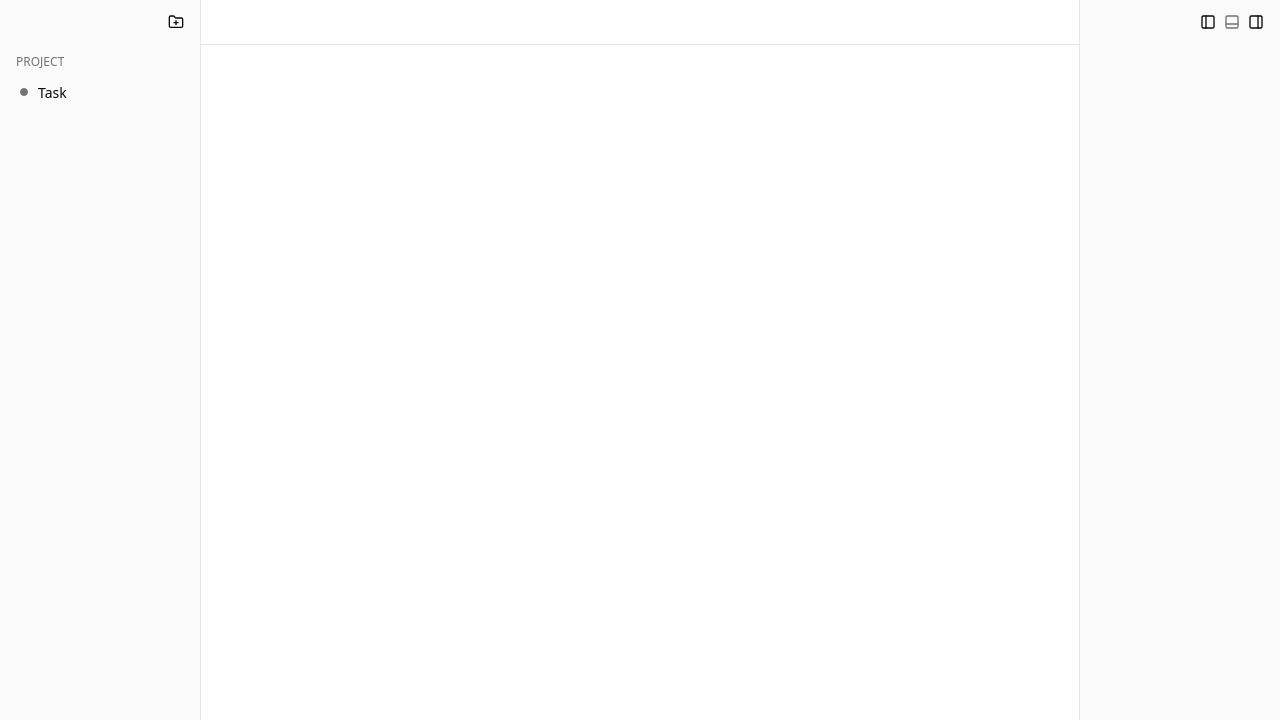
Transcript Markdown › completes Markdown split across streamed chunks
Later steps or results of the test are not shown.
Click the button with class "select": (100, 92) [8,76,192,108]
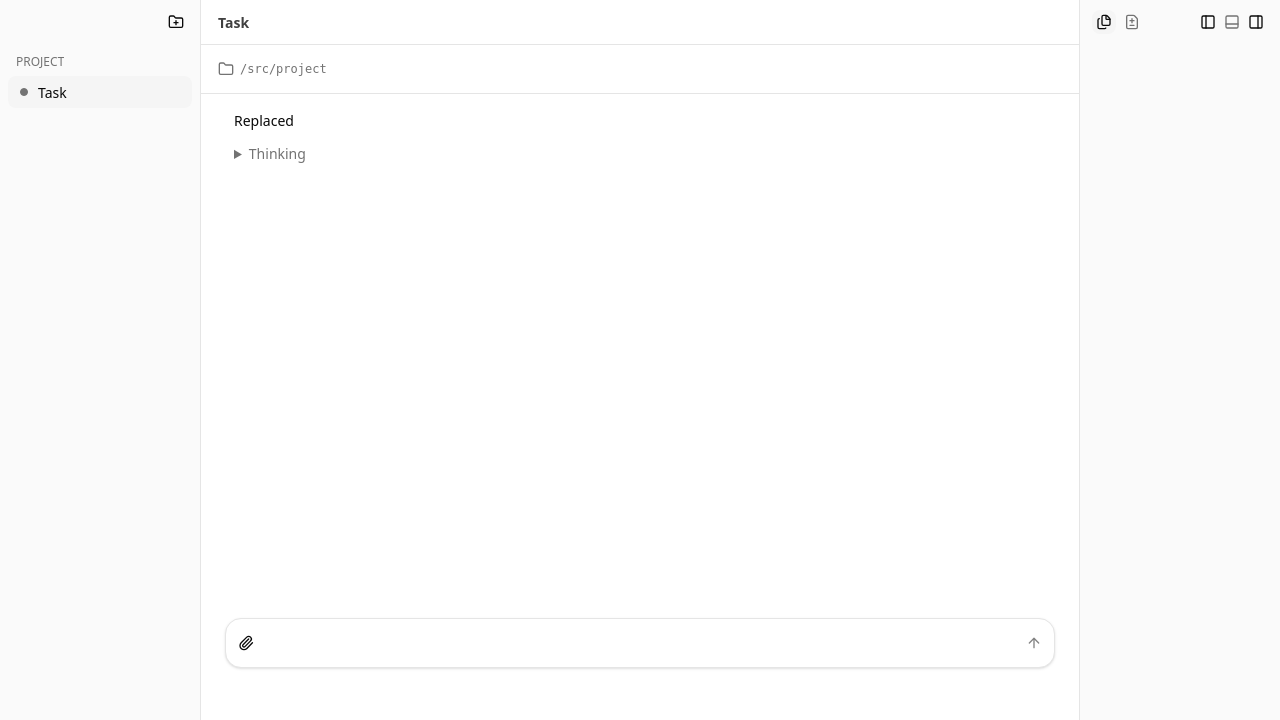
Expected: the element with class "markdown" reads "Replaced", [234,111,294,130]
